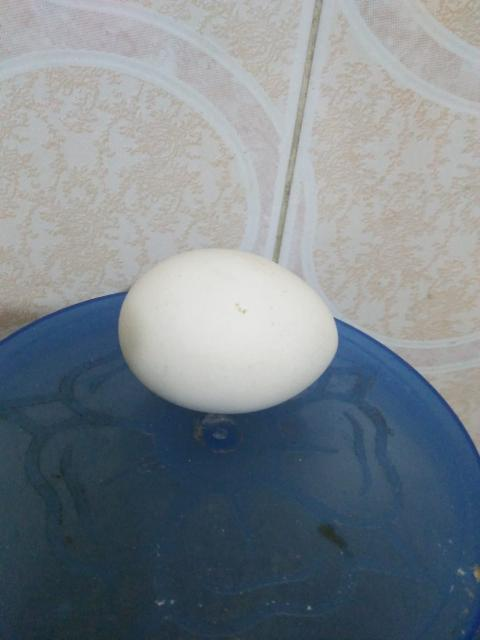Sano: (119, 248, 337, 411)
